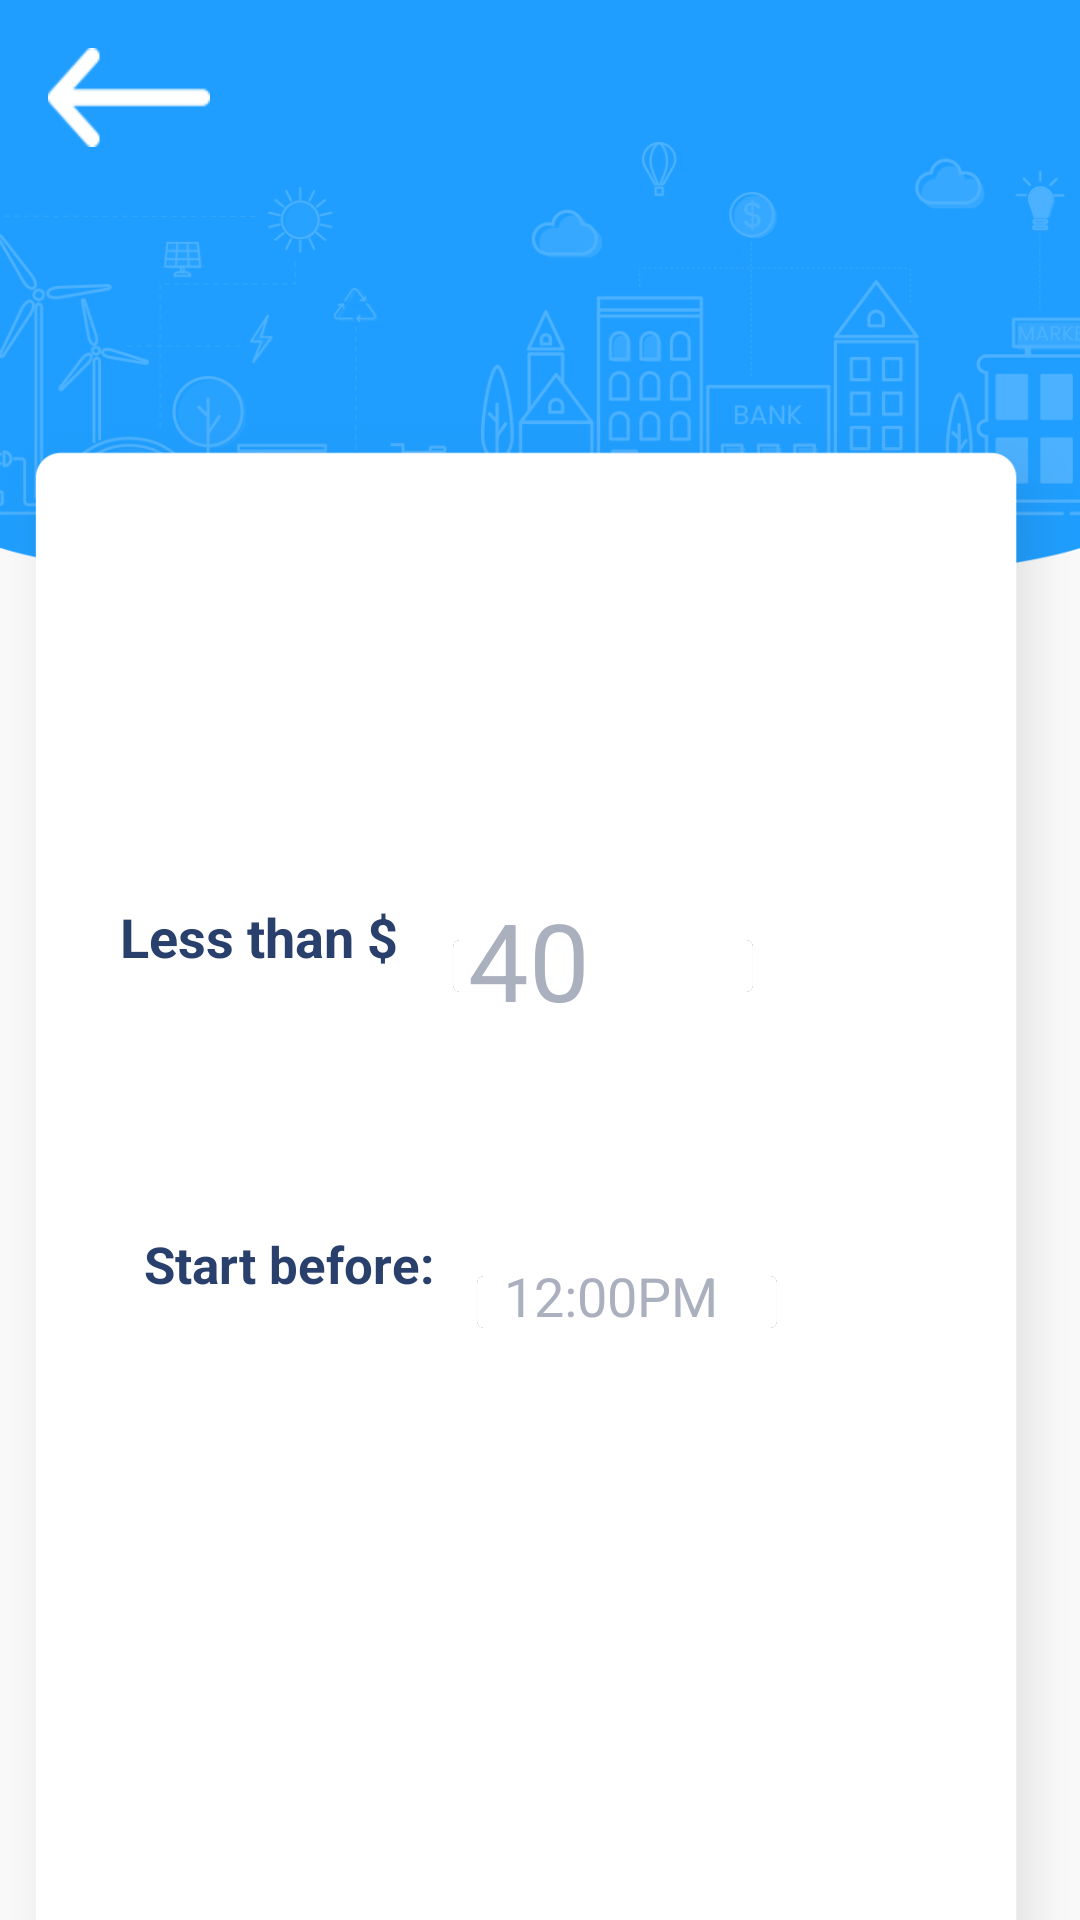

Screen size 1080px×1920px. Icon name, then its box in pixels as (x1, y1, x2, y2):
backarrow: (48, 48, 210, 147)
